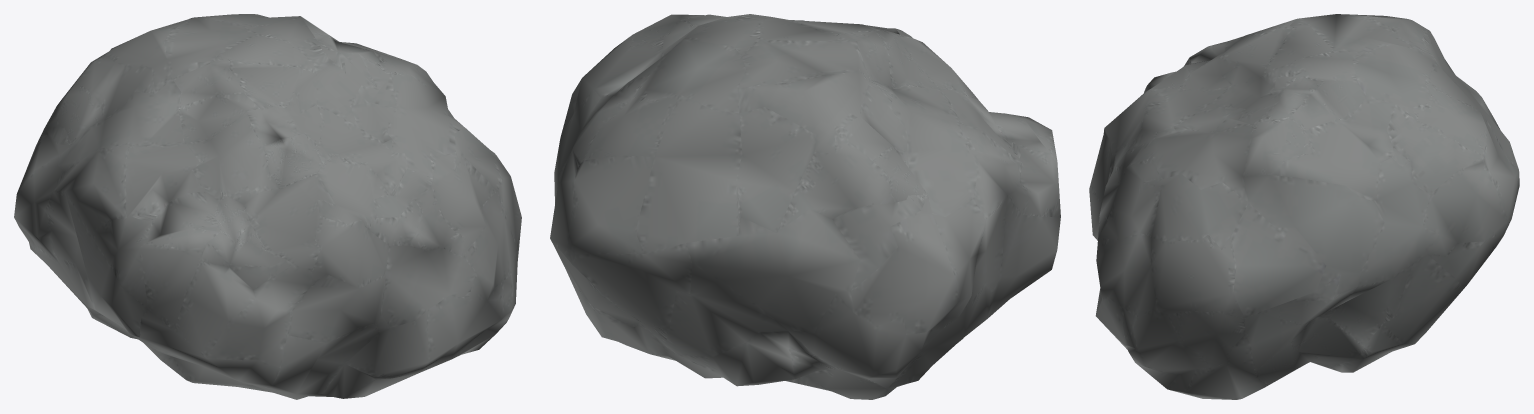
Rendered from rock.glb.
3 renders of one model, left to right at view 1: azimuth 30°, elevation 25°; view 2: azimuth 150°, elevation 25°; view 3: azimuth 270°, elevation 25°, orthographic. The views are drawn at different scales.
Size of the model in its own units: 1.89 by 1.35 by 1.78.
Materials: 1 (1 with a texture image).
